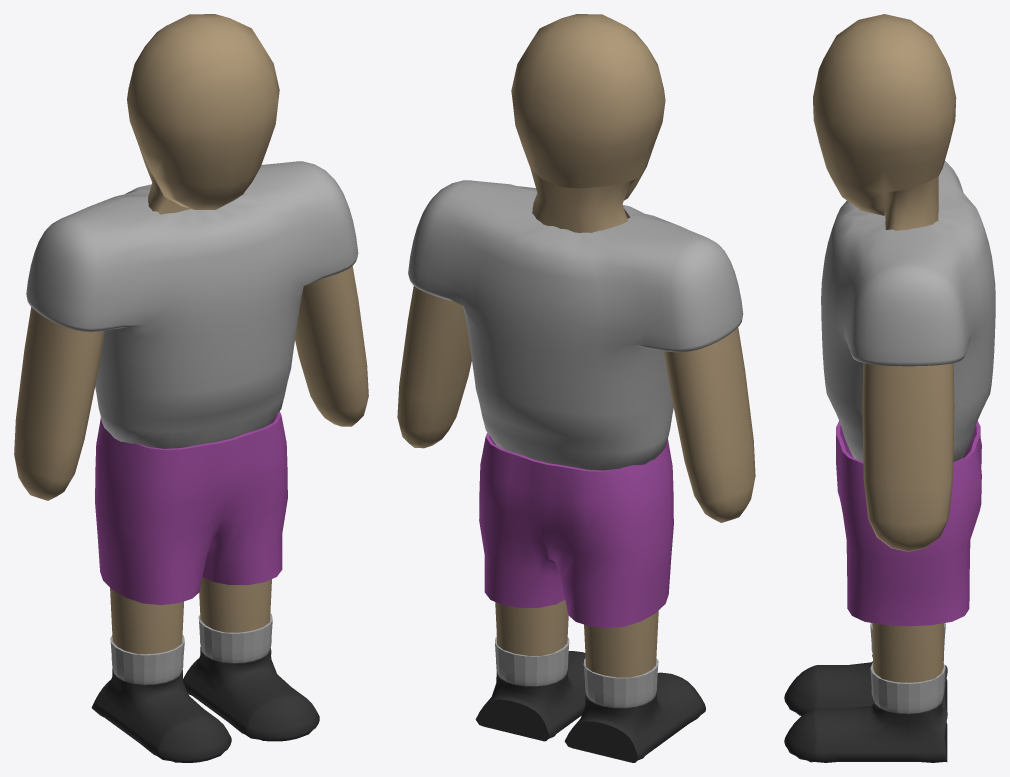
The model's file is Target 2.fbx.
The picture shows the model from 3 angles, left to right: view 1: azimuth 30°, elevation 25°; view 2: azimuth 150°, elevation 25°; view 3: azimuth 270°, elevation 25°; orthographic projection.
Parts seen in each view (by area): view 1: Torso1, Target2, Head1, R_Arm1, R_Shoe1, L_Shoe1, L_Arm1, R_Leg1, L_Leg1; view 2: Torso1, Target2, Head1, R_Arm1, L_Arm1, R_Shoe1, L_Shoe1, R_Leg1, L_Leg1; view 3: Torso1, Head1, L_Arm1, Target2, L_Shoe1, L_Leg1, R_Shoe1.
Part boxes in pixels (x1=…): Torso1: x1=26, y1=161, x2=358, y2=448; Target2: x1=95, y1=411, x2=287, y2=604; Head1: x1=127, y1=14, x2=279, y2=214; R_Arm1: x1=14, y1=307, x2=104, y2=500; R_Shoe1: x1=91, y1=635, x2=231, y2=762; L_Shoe1: x1=183, y1=613, x2=319, y2=741; L_Arm1: x1=295, y1=266, x2=368, y2=426; R_Leg1: x1=110, y1=588, x2=183, y2=654; L_Leg1: x1=199, y1=577, x2=271, y2=632; Torso1: x1=408, y1=180, x2=743, y2=470; Target2: x1=479, y1=433, x2=673, y2=628; Head1: x1=511, y1=14, x2=665, y2=232; R_Arm1: x1=664, y1=327, x2=755, y2=522; L_Arm1: x1=397, y1=286, x2=471, y2=448; R_Shoe1: x1=564, y1=658, x2=705, y2=762; L_Shoe1: x1=475, y1=636, x2=585, y2=741; R_Leg1: x1=584, y1=611, x2=658, y2=677; L_Leg1: x1=495, y1=600, x2=568, y2=655; Torso1: x1=821, y1=161, x2=995, y2=461; Head1: x1=813, y1=14, x2=956, y2=230; L_Arm1: x1=862, y1=363, x2=954, y2=551; Target2: x1=836, y1=420, x2=981, y2=626; L_Shoe1: x1=784, y1=663, x2=947, y2=762; L_Leg1: x1=872, y1=623, x2=944, y2=682; R_Shoe1: x1=784, y1=623, x2=947, y2=715.
Bounding box in the file's own units: 3.07 × 6.04 × 1.65.
